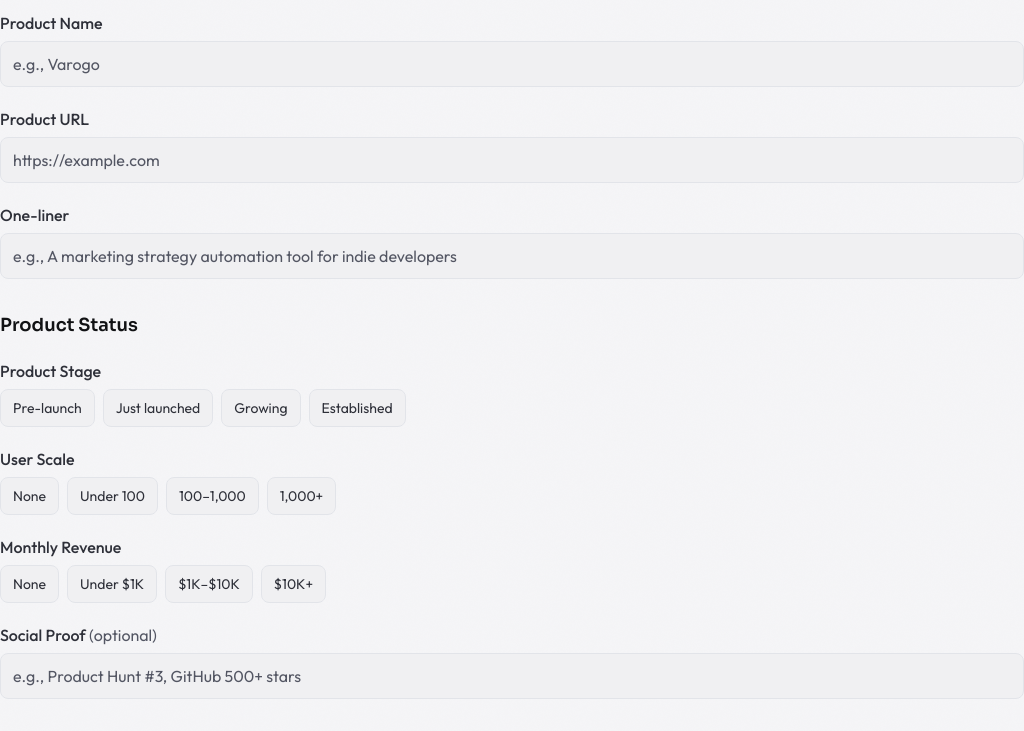
ProductForm › validation › shows url validation error when url does not start with http:// or https://
Type "My Product" into the field labelled "Product Name" at (512, 64), box [0, 41, 1023, 87]
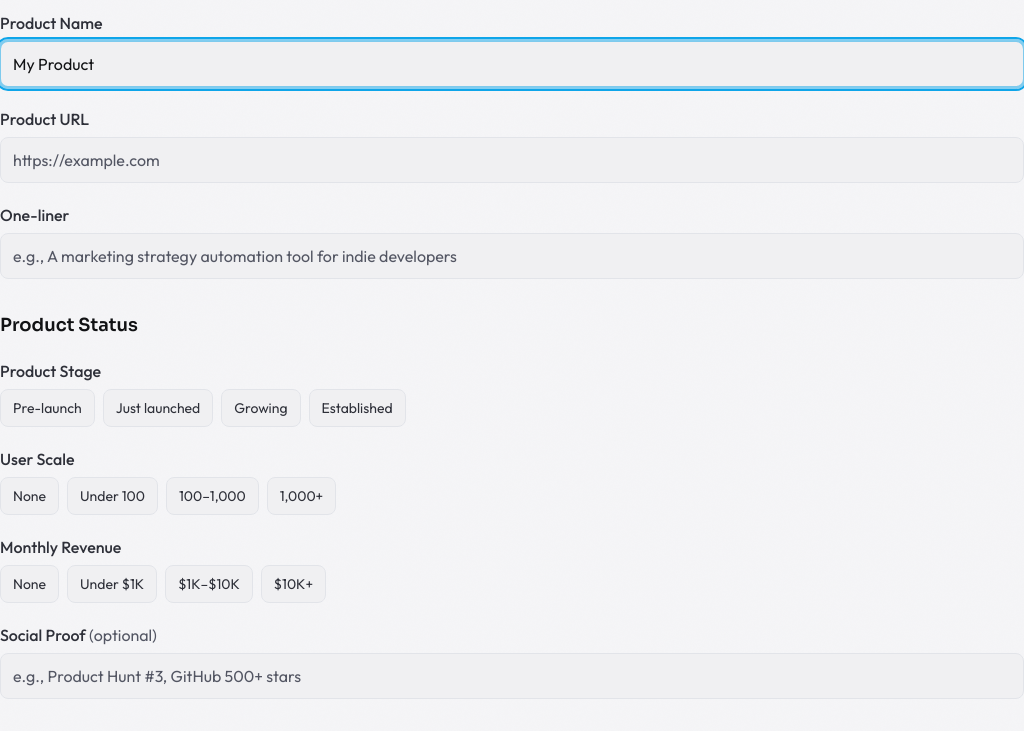
Type "ftp://example.com" into the field labelled "Product URL" at (512, 160), box [0, 137, 1023, 183]
(page scrolled)
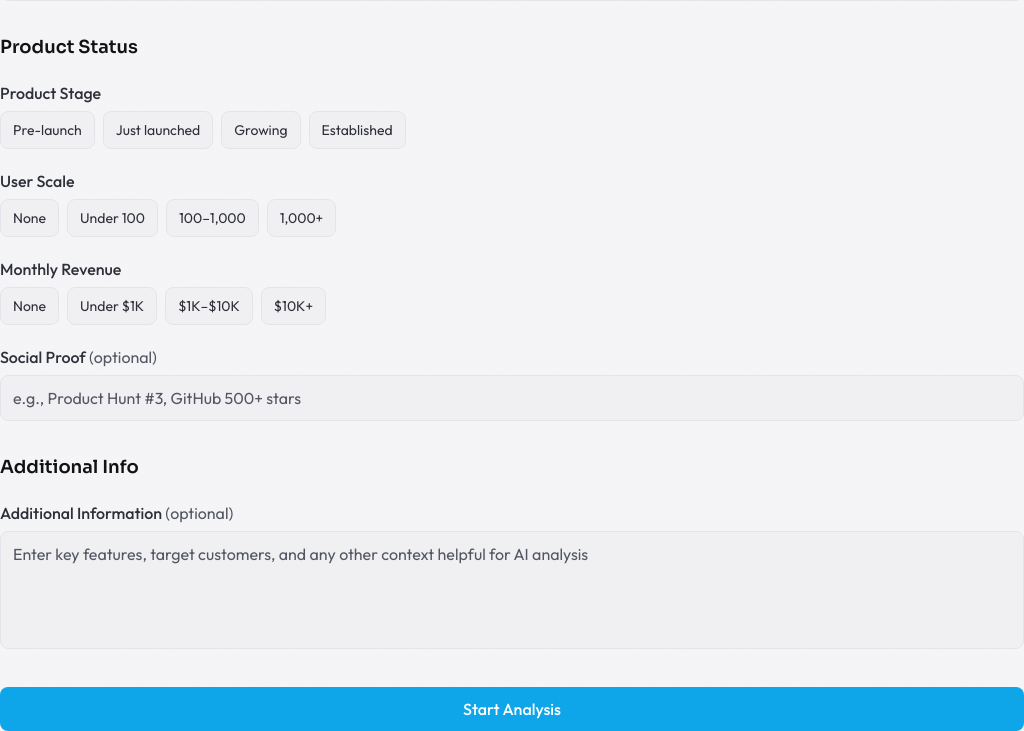
Click the button "Start Analysis" at (512, 709), box [0, 687, 1023, 730]
(page scrolled)
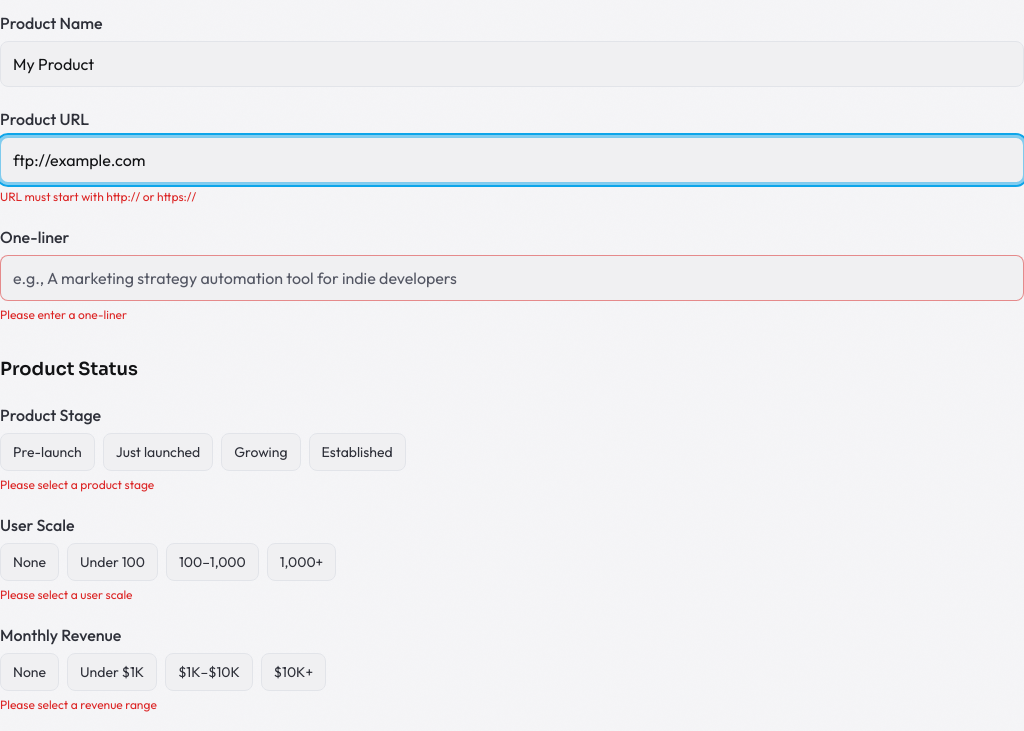
Expected: the text "URL must start with http:// or https://" is shown, [0, 189, 196, 204]
